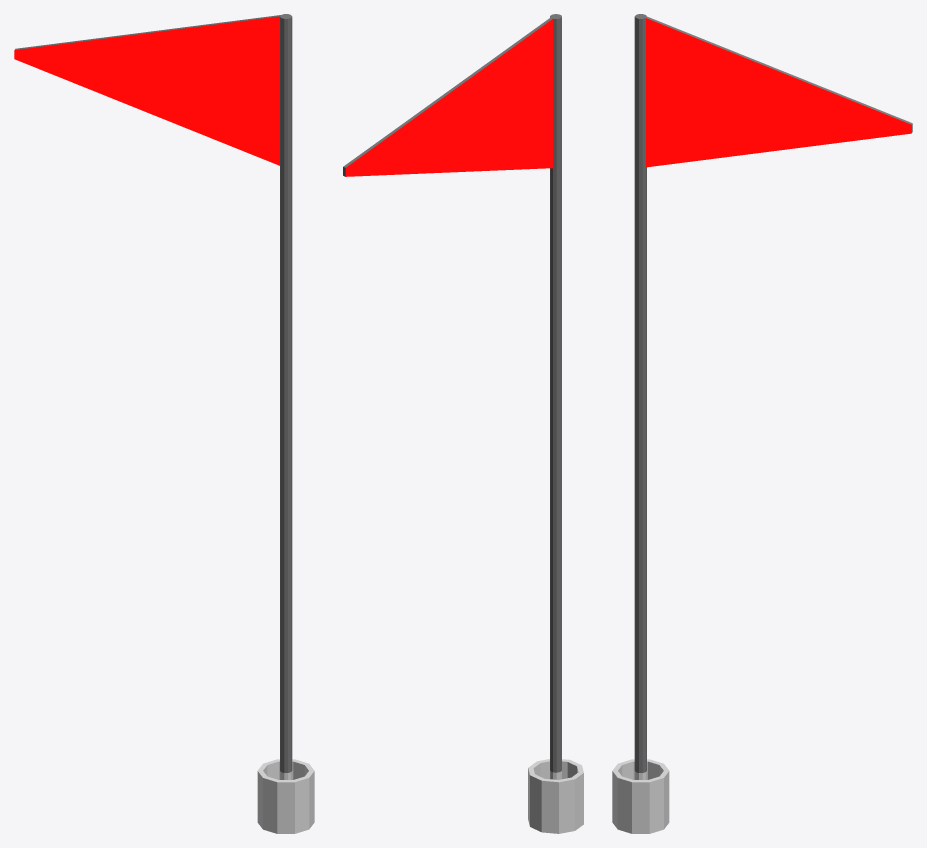
File: pin.glb
3 views of the same model, side by side, from view 1: azimuth 90°, elevation 25°; view 2: azimuth 150°, elevation 25°; view 3: azimuth 270°, elevation 25° (orthographic).
Visible parts, largest first — view 1: Pin; view 2: Pin; view 3: Pin.
Boxes of the visible parts, x1,y1,x2,y2 form: Pin: (14,14,314,833); Pin: (343,14,583,833); Pin: (612,14,912,833).
Size of what is drawn, in the model's own units: 4.1 by 31.16 by 10.52.
